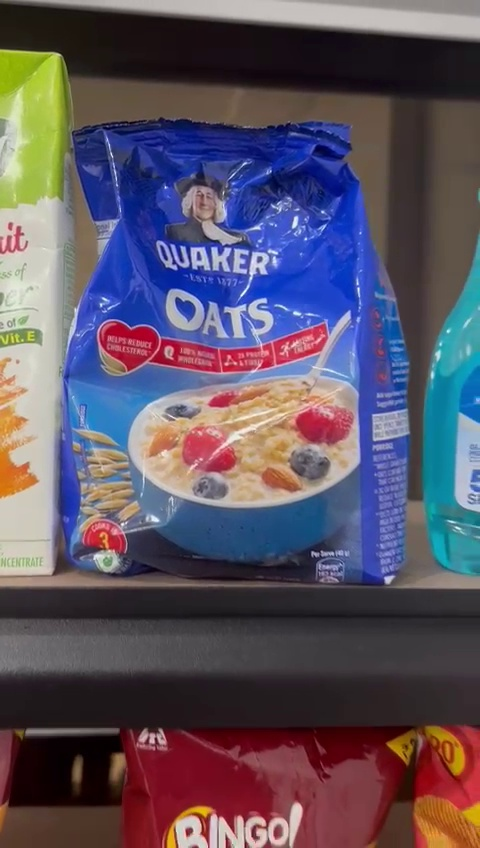Quaker Oats: (49, 120, 413, 585)
